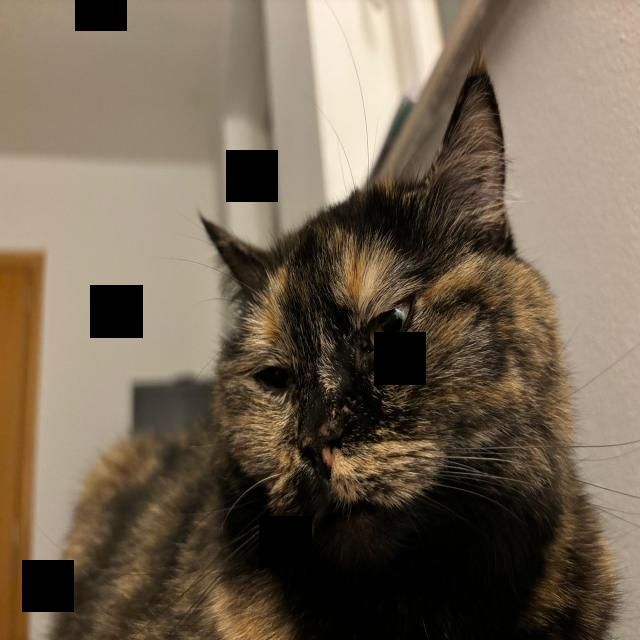authorized: (45, 19, 635, 639)
